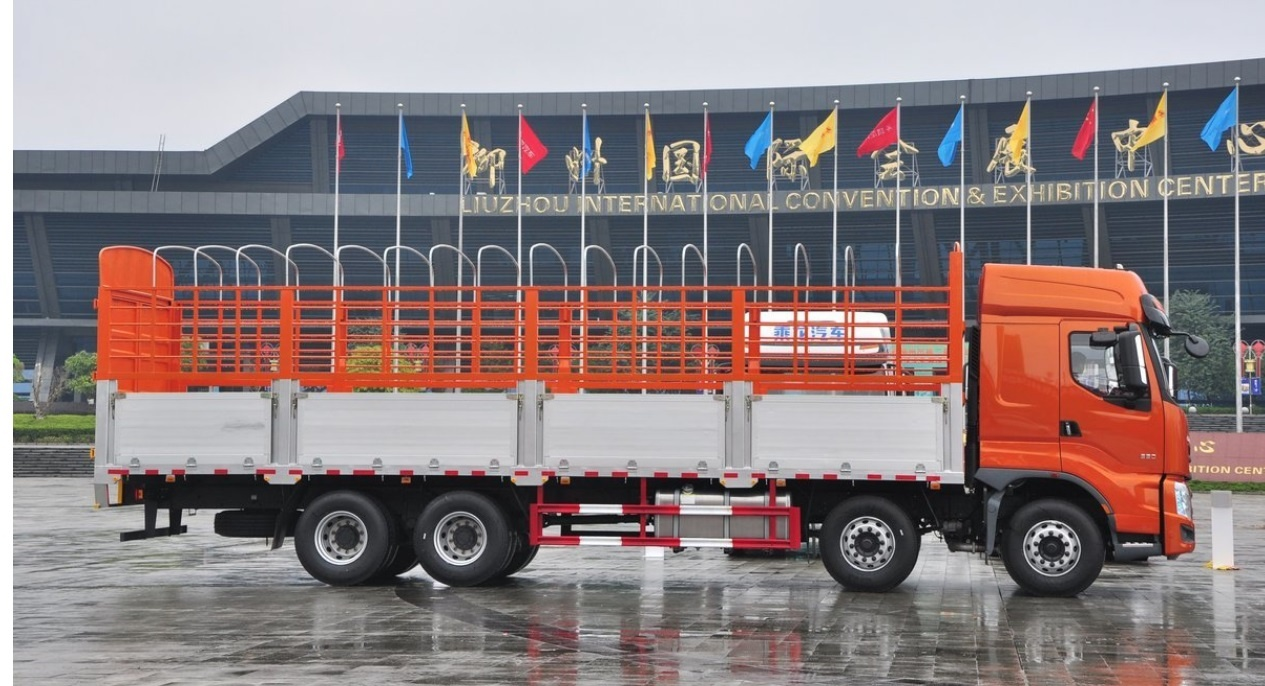heavy truck: (88, 229, 1201, 596)
